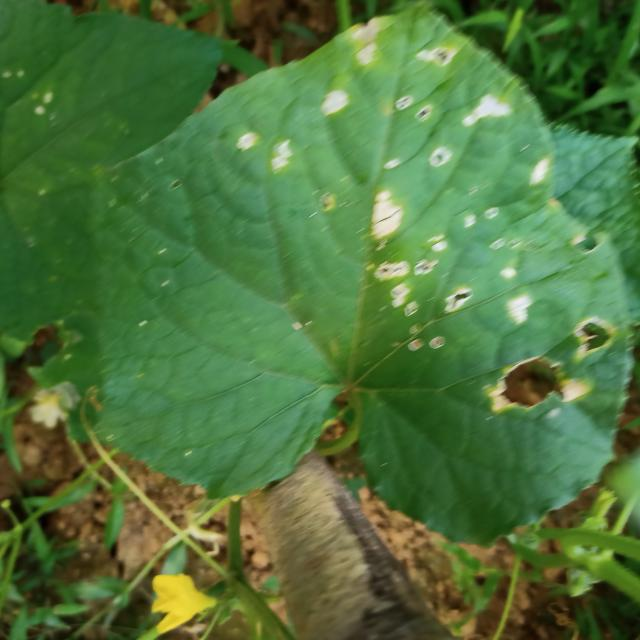disease_cucumber: (478, 353, 599, 415), (366, 252, 473, 314), (394, 94, 451, 169), (496, 263, 541, 326), (459, 88, 515, 136), (235, 130, 291, 174), (368, 184, 407, 247), (572, 315, 617, 358), (353, 20, 385, 66), (405, 321, 447, 354), (319, 87, 350, 119)
